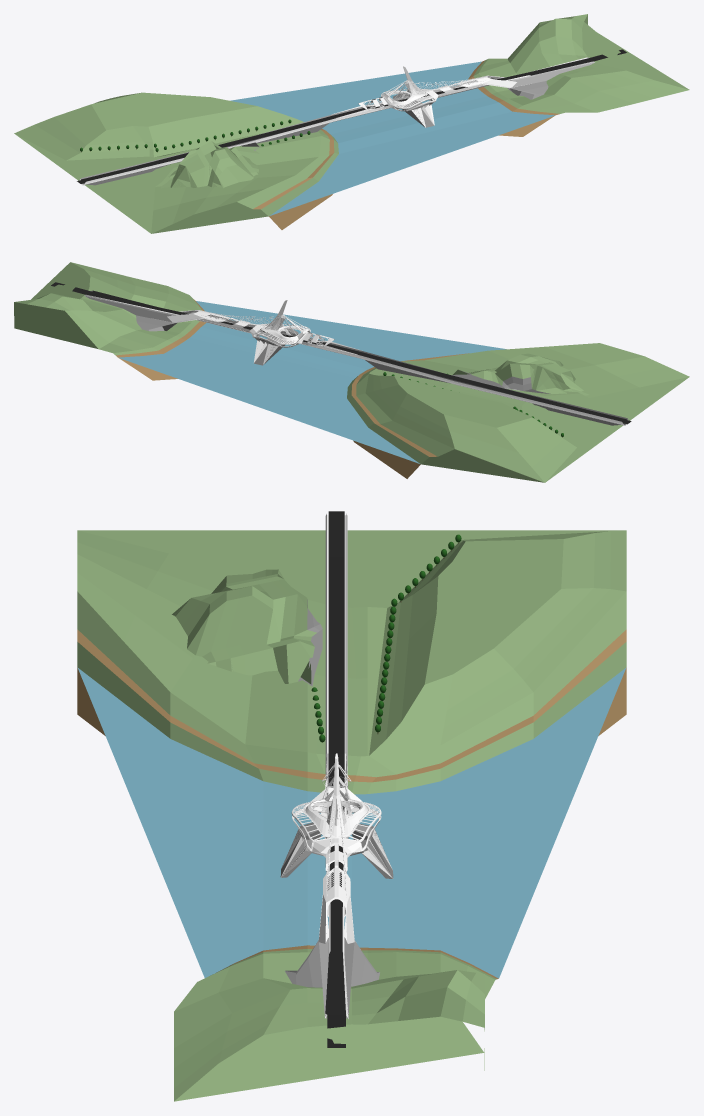
Rendered from roads-bridges.glb.
3 renders of one model, top to bottom at view 1: azimuth 30°, elevation 25°; view 2: azimuth 150°, elevation 25°; view 3: azimuth 270°, elevation 25°, orthographic. The views are drawn at different scales.
Visible parts, largest first — view 1: Object_8, Object_2, Object_3, Object_5, Object_6, Object_4, Object_10, Object_9, Object_7; view 2: Object_8, Object_2, Object_5, Object_3, Object_10, Object_4, Object_6, Object_9, Object_7; view 3: Object_8, Object_2, Object_4, Object_6, Object_3, Object_10, Object_5, Object_9, Object_7.
Boxes of the visible parts, bbox=[...] form: Object_8: bbox=[14, 14, 689, 233]; Object_2: bbox=[230, 61, 554, 215]; Object_3: bbox=[253, 60, 559, 229]; Object_5: bbox=[79, 57, 594, 185]; Object_6: bbox=[379, 66, 531, 125]; Object_4: bbox=[77, 49, 626, 183]; Object_10: bbox=[81, 81, 548, 185]; Object_9: bbox=[389, 62, 594, 100]; Object_7: bbox=[332, 66, 512, 127]; Object_8: bbox=[14, 262, 689, 482]; Object_2: bbox=[119, 301, 506, 463]; Object_5: bbox=[84, 290, 628, 425]; Object_3: bbox=[116, 299, 468, 478]; Object_10: bbox=[136, 315, 626, 425]; Object_4: bbox=[51, 282, 631, 424]; Object_6: bbox=[151, 300, 312, 362]; Object_9: bbox=[85, 296, 519, 390]; Object_7: bbox=[204, 300, 362, 364]; Object_8: bbox=[77, 530, 626, 1101]; Object_2: bbox=[78, 668, 625, 978]; Object_4: bbox=[325, 511, 345, 1047]; Object_6: bbox=[281, 753, 392, 943]; Object_3: bbox=[77, 629, 626, 979]; Object_10: bbox=[280, 599, 393, 987]; Object_5: bbox=[314, 513, 359, 1018]; Object_9: bbox=[311, 795, 361, 1018]; Object_7: bbox=[281, 752, 392, 933].
Size of the model in its own units: 173 by 20.71 by 72.2.
